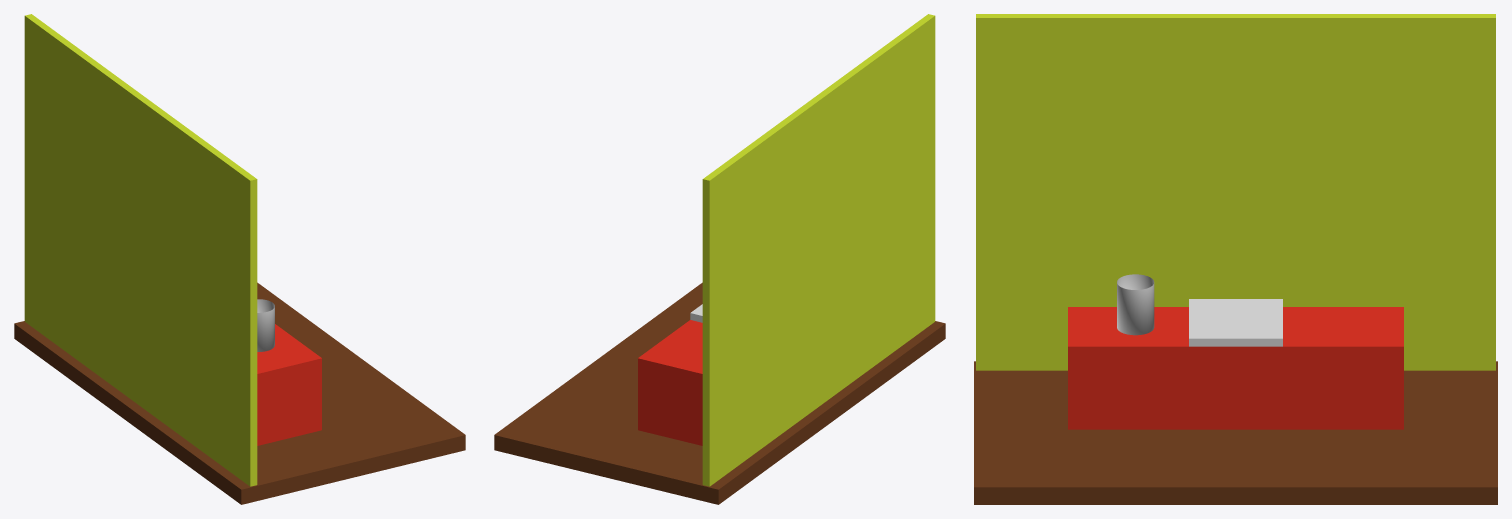
Rendered from Nivel_1.glb.
The picture shows the model from 3 angles, left to right: view 1: azimuth 30°, elevation 25°; view 2: azimuth 150°, elevation 25°; view 3: azimuth 270°, elevation 25°; orthographic projection. The views are drawn at different scales.
Parts seen in each view (by area): view 1: Plane, Plane.001, Cube, Cylinder; view 2: Plane, Plane.001, Cube; view 3: Plane, Plane.001, Cube, Cube.001, Cylinder.
Boxes of the visible parts, x1=… form: Plane: x1=24, y1=14, x2=257, y2=486; Plane.001: x1=14, y1=282, x2=465, y2=504; Cube: x1=257, y1=324, x2=321, y2=445; Cylinder: x1=257, y1=299, x2=274, y2=351; Plane: x1=702, y1=14, x2=935, y2=486; Plane.001: x1=494, y1=282, x2=945, y2=504; Cube: x1=638, y1=320, x2=702, y2=445; Plane: x1=976, y1=14, x2=1495, y2=370; Plane.001: x1=974, y1=361, x2=1497, y2=504; Cube: x1=1068, y1=307, x2=1403, y2=429; Cube.001: x1=1189, y1=299, x2=1282, y2=346; Cylinder: x1=1117, y1=274, x2=1154, y2=335.
Bounding box in the file's own units: 6.35 × 8.69 × 11.14.
